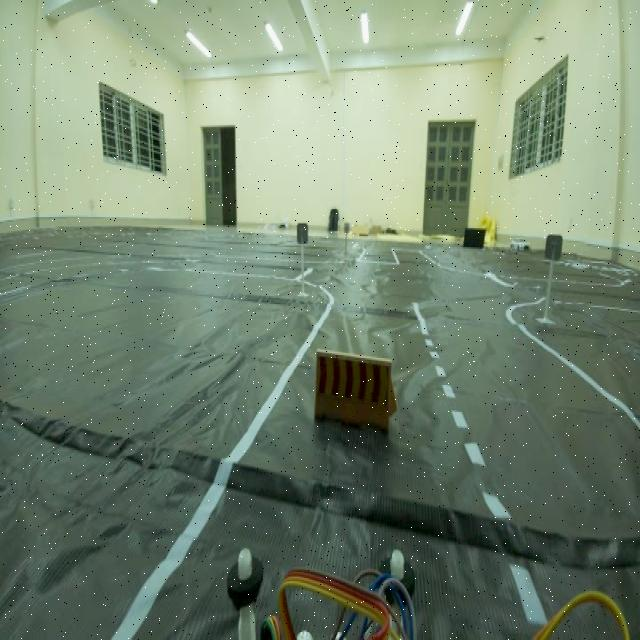roadblock: (307, 342, 406, 437)
